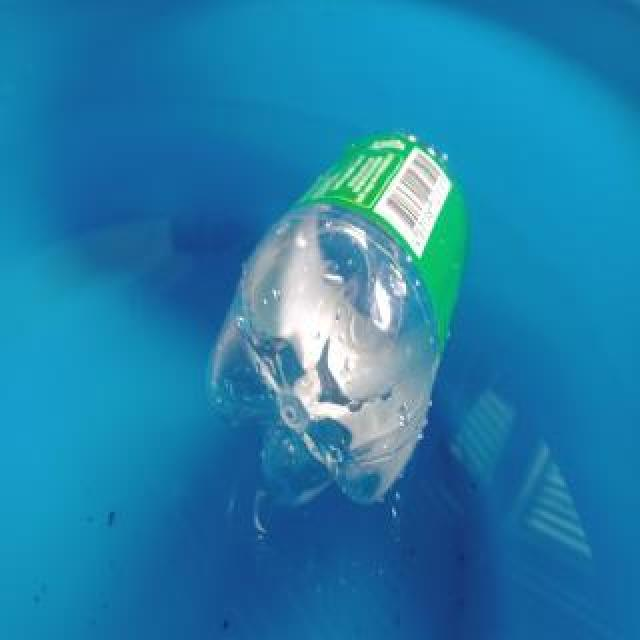bottle: (203, 125, 471, 507)
